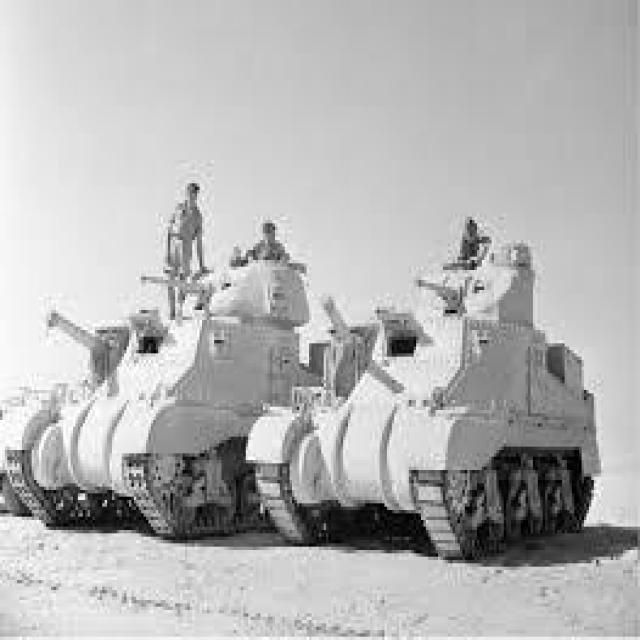Tanks: (250, 170, 576, 593), (53, 124, 314, 604)
